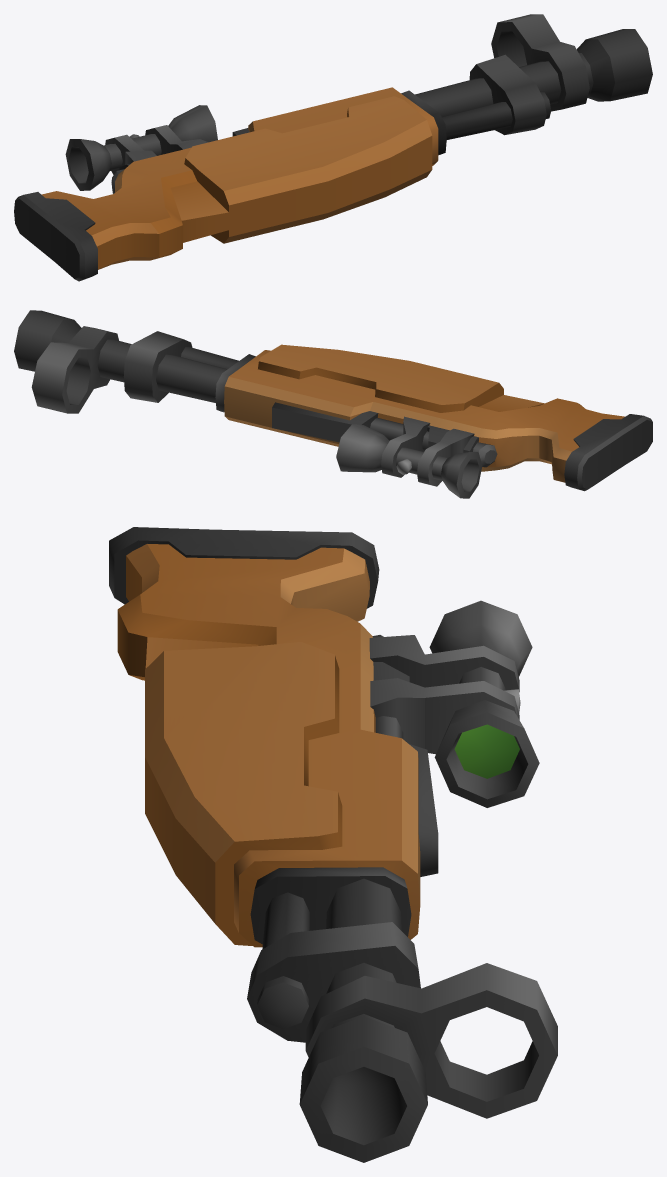
File: Weapon_Kar98KPredatorSniper.fbx
The picture shows the model from 3 angles, top to bottom: view 1: azimuth 30°, elevation 25°; view 2: azimuth 150°, elevation 25°; view 3: azimuth 270°, elevation 25°; orthographic projection. The views are drawn at different scales.
Parts seen in each view (by area): view 1: Weapon_Kar98KPredatorSniper; view 2: Weapon_Kar98KPredatorSniper; view 3: Weapon_Kar98KPredatorSniper.
Boxes of the visible parts, left/top/right/bottom form: Weapon_Kar98KPredatorSniper: left=14, top=14, right=652, bottom=281; Weapon_Kar98KPredatorSniper: left=14, top=310, right=652, bottom=498; Weapon_Kar98KPredatorSniper: left=109, top=527, right=557, bottom=1162.
Size of the model in its own units: 0.8672 by 0.0949 by 0.2999.
